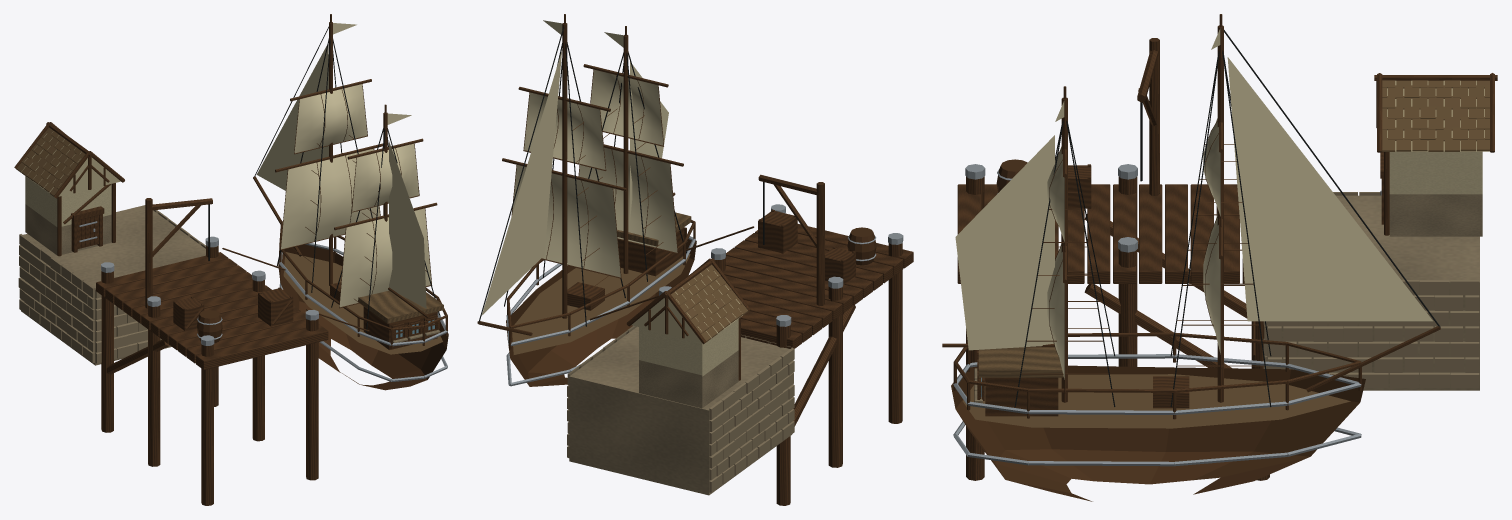
Rendered from Port.glb.
The picture shows the model from 3 angles, left to right: view 1: azimuth 30°, elevation 25°; view 2: azimuth 150°, elevation 25°; view 3: azimuth 270°, elevation 25°; orthographic projection. The views are drawn at different scales.
Parts seen in each view (by area): view 1: Port; view 2: Port; view 3: Port.
Boxes of the visible parts, x1,y1,x2,y2 form: Port: (14, 14, 448, 505); Port: (477, 14, 913, 505); Port: (942, 14, 1497, 501).
Size of the model in its own units: 0.6884 by 0.89 by 0.837.
8 materials, 6 textured.
